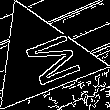M_SW: (7, 28, 76, 90)
